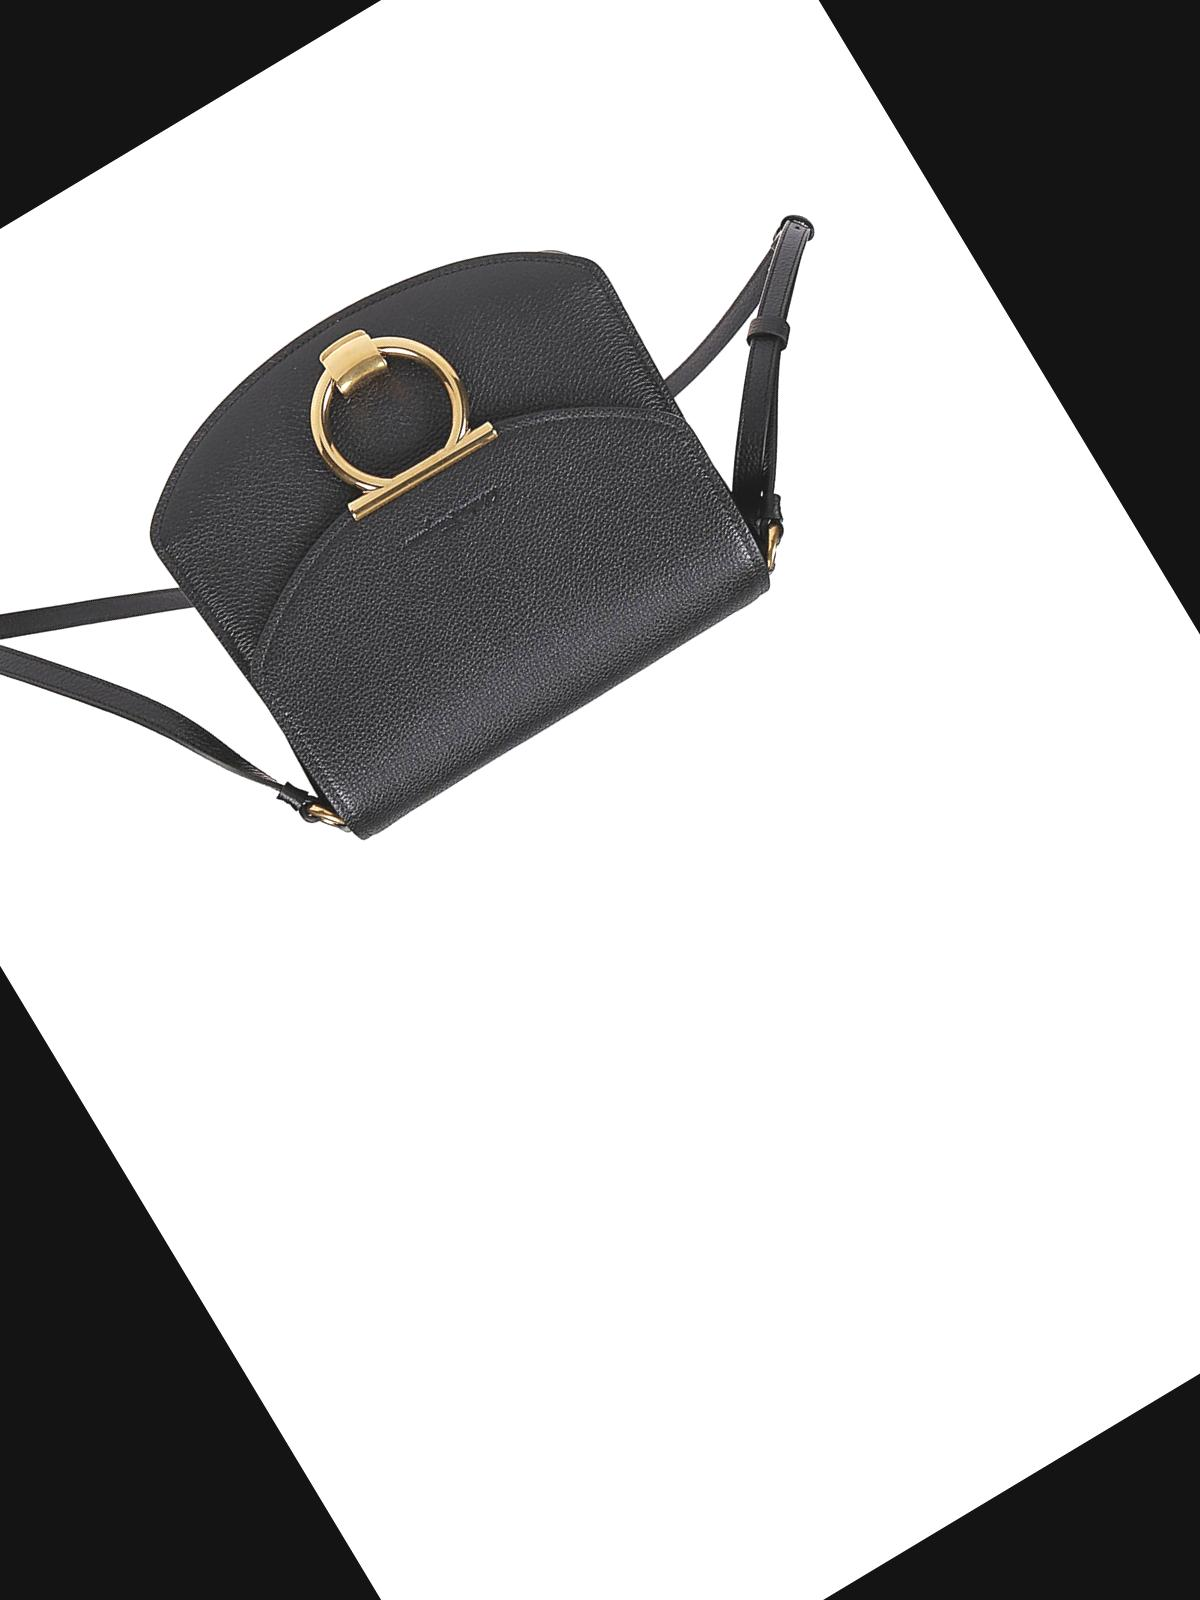FERRAGAMO: (245, 273, 539, 562)
